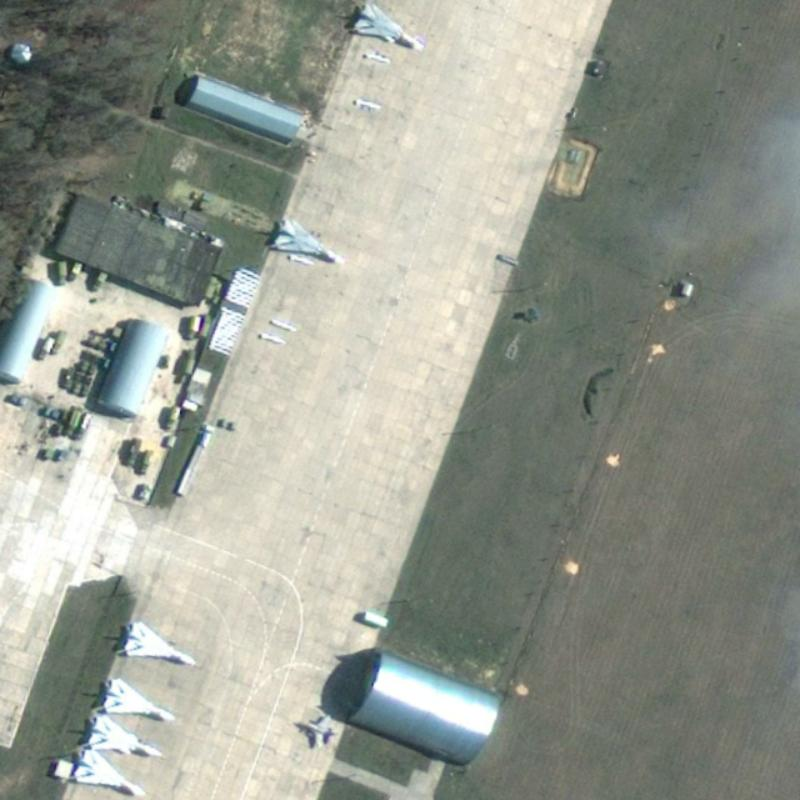A20: (72, 746, 148, 798), (351, 1, 426, 52), (101, 675, 177, 722), (122, 619, 197, 666), (86, 713, 165, 757), (273, 217, 345, 263)
